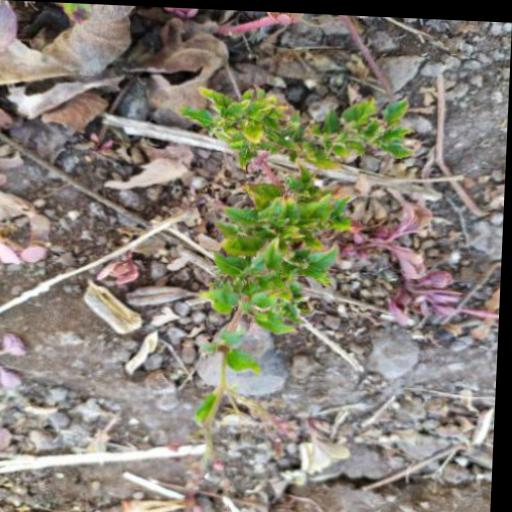weed: (163, 78, 423, 432)
